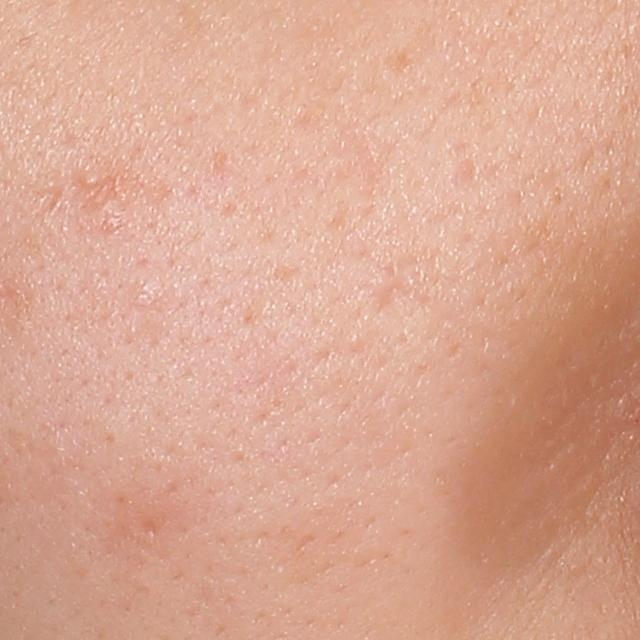atrophic_scar: (370, 254, 421, 313), (71, 174, 121, 215), (447, 141, 483, 194)
